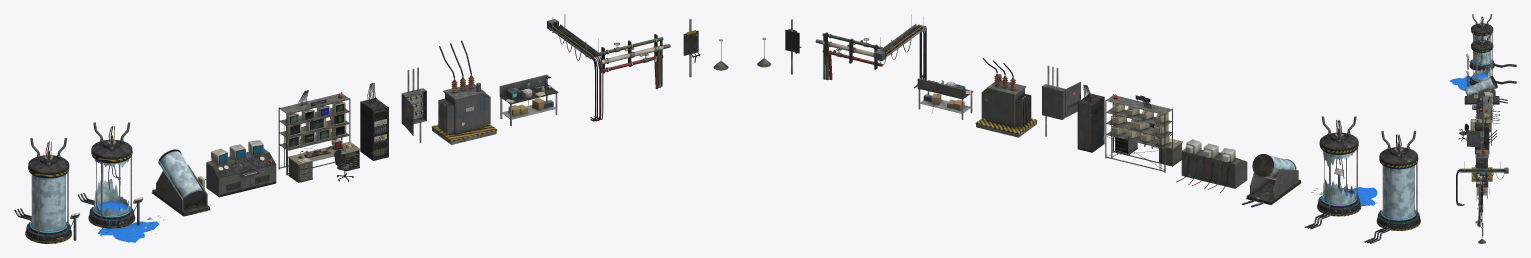
The model's file is Lab_All.fbx.
The picture shows the model from 3 angles, left to right: view 1: azimuth 30°, elevation 25°; view 2: azimuth 150°, elevation 25°; view 3: azimuth 270°, elevation 25°; orthographic projection. The views are drawn at different scales.
Visible parts, largest first — view 1: SurveillanceStation_Frame, Transformer_Frame, ControlConsole_Frame, ContainmentTankBroken_Frame, ContainmentTank_Frame, LabBench_Frame, ContainmentTank_Glass, ServerRack_Frame, CryoPod_Frame, PipeManifold_Frame, CableTray_Frame, CryoPod_Glass (+4 smaller); view 2: SurveillanceStation_Frame, Transformer_Frame, ControlConsole_Frame, ContainmentTankBroken_Frame, CryoPod_Frame, ContainmentTank_Frame, ContainmentTank_Glass, ServerRack_Frame, LabBench_Frame, PipeManifold_Frame, CableTray_Frame, BreakerPanel_Frame (+4 smaller); view 3: ContainmentTankBroken_Frame, ContainmentTank_Frame, Transformer_Frame, CryoPod_Frame, CableTray_Frame, SurveillanceStation_Frame, ControlConsole_Frame, ContainmentTank_Glass, ContainmentTankBroken_LiquidBlue, ServerRack_Frame, LabBench_Frame, CryoPod_Glass (+6 smaller).
Boxes of the visible parts, x1,y1,x2,y2 form: SurveillanceStation_Frame: [278, 90, 360, 182]; Transformer_Frame: [431, 40, 497, 144]; ControlConsole_Frame: [205, 140, 276, 197]; ContainmentTankBroken_Frame: [77, 122, 143, 228]; ContainmentTank_Frame: [14, 137, 79, 243]; LabBench_Frame: [499, 74, 558, 126]; ContainmentTank_Glass: [31, 174, 65, 231]; ServerRack_Frame: [360, 82, 388, 160]; CryoPod_Frame: [152, 149, 210, 216]; PipeManifold_Frame: [599, 34, 670, 88]; CableTray_Frame: [547, 14, 603, 121]; CryoPod_Glass: [160, 151, 201, 198]; SurveillanceStation_Frame: [1105, 94, 1182, 172]; Transformer_Frame: [975, 58, 1037, 137]; ControlConsole_Frame: [1176, 139, 1247, 192]; ContainmentTankBroken_Frame: [1304, 116, 1361, 229]; CryoPod_Frame: [1242, 154, 1301, 207]; ContainmentTank_Frame: [1364, 131, 1420, 243]; ContainmentTank_Glass: [1382, 165, 1414, 219]; ServerRack_Frame: [1077, 84, 1104, 152]; LabBench_Frame: [917, 74, 973, 119]; PipeManifold_Frame: [815, 32, 882, 80]; CableTray_Frame: [874, 14, 926, 89]; BreakerPanel_Frame: [1042, 65, 1065, 136]; ContainmentTankBroken_Frame: [1466, 30, 1516, 86]; ContainmentTank_Frame: [1466, 14, 1516, 71]; Transformer_Frame: [1471, 130, 1497, 181]; CryoPod_Frame: [1464, 76, 1507, 104]; CableTray_Frame: [1456, 161, 1508, 205]; SurveillanceStation_Frame: [1470, 95, 1491, 145]; ControlConsole_Frame: [1472, 91, 1499, 123]; ContainmentTank_Glass: [1473, 34, 1491, 64]; ContainmentTankBroken_LiquidBlue: [1449, 73, 1487, 90]; ServerRack_Frame: [1475, 115, 1489, 154]; LabBench_Frame: [1476, 172, 1489, 198]; CryoPod_Glass: [1466, 77, 1493, 95].
Bounding box in the file's own units: 87.43 × 11.02 × 13.51.
Materials: 13 (13 with a texture image).
